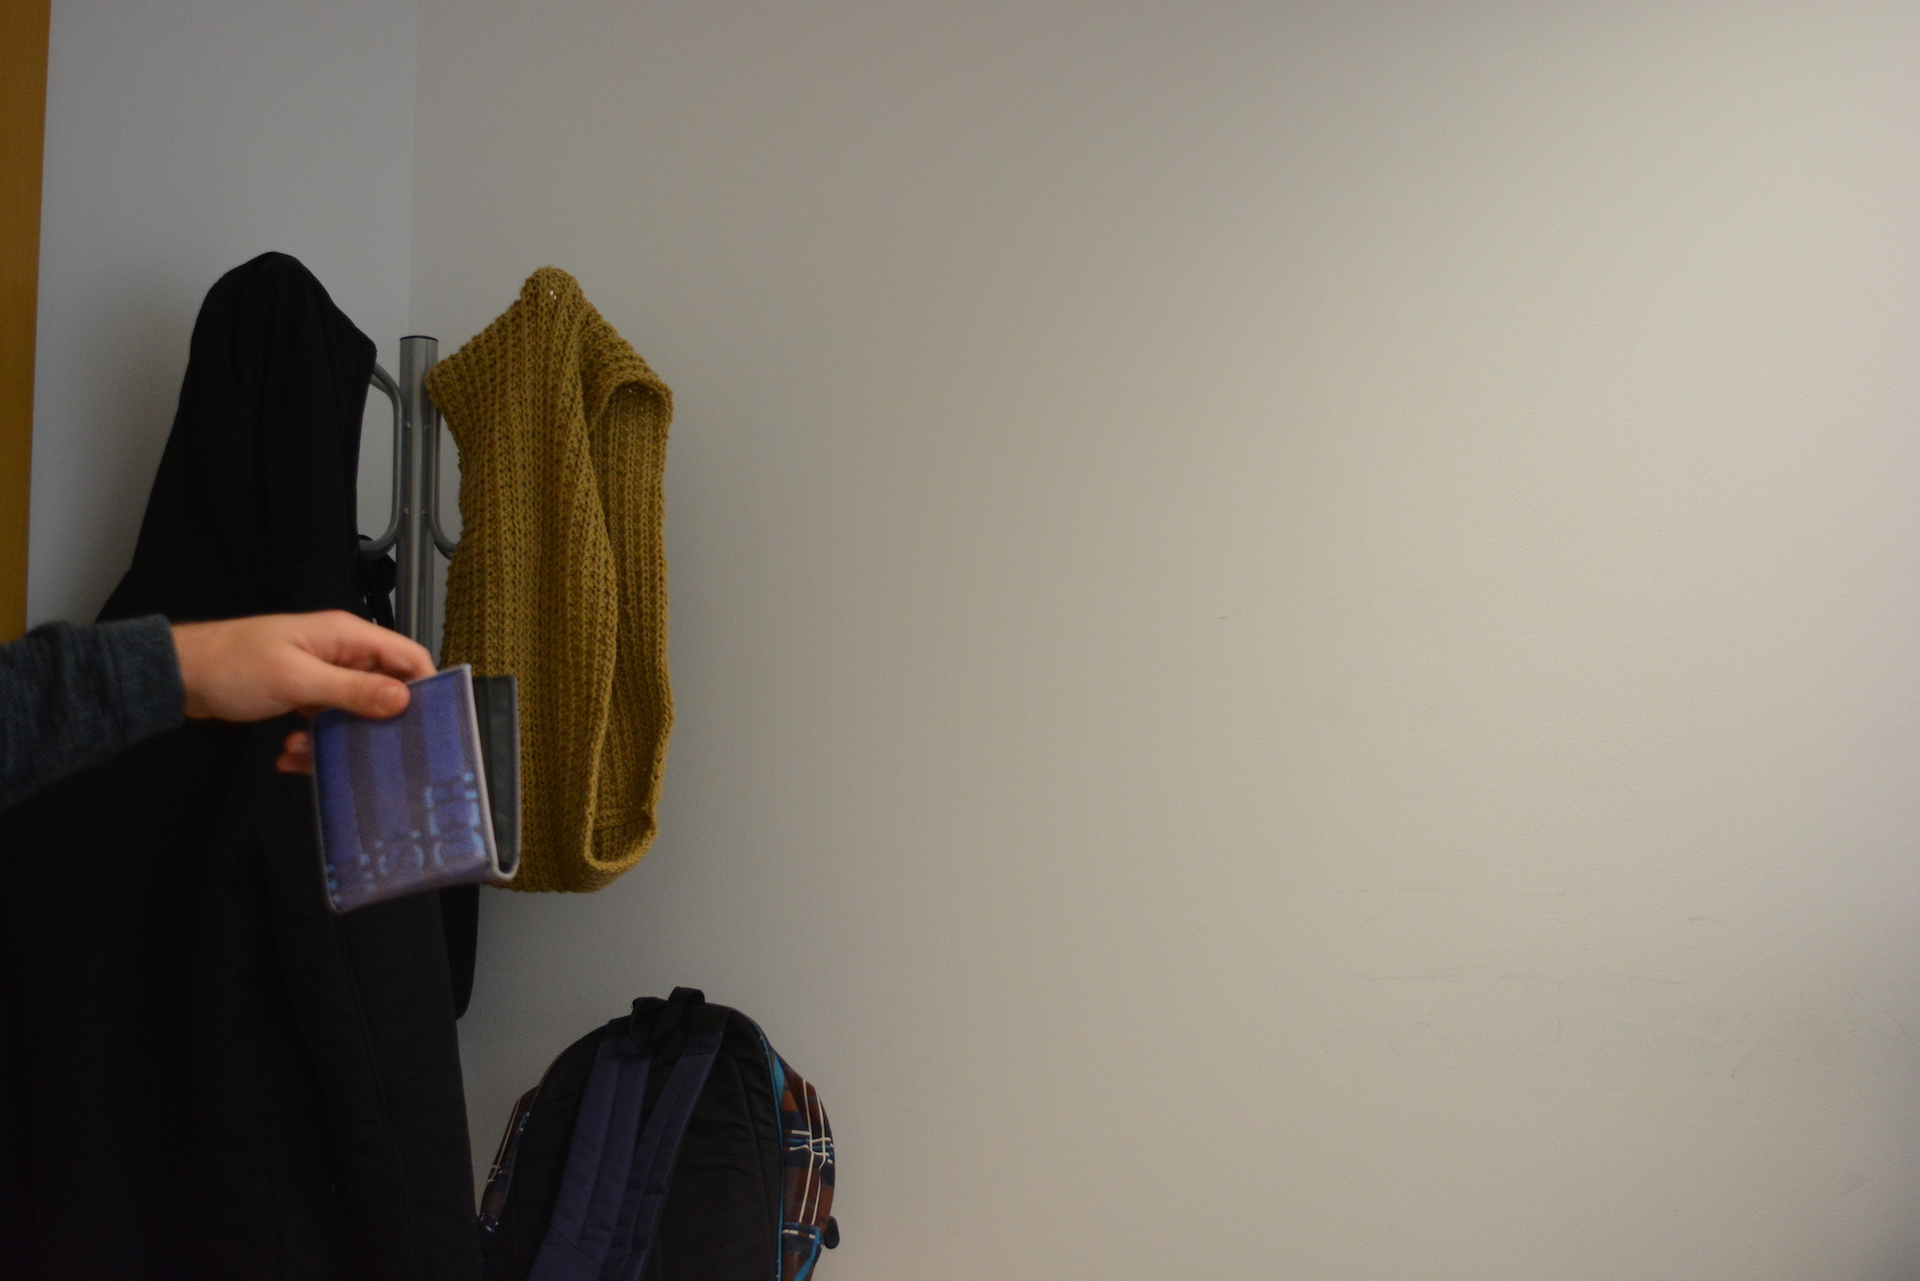monedero: (307, 661, 523, 919)
